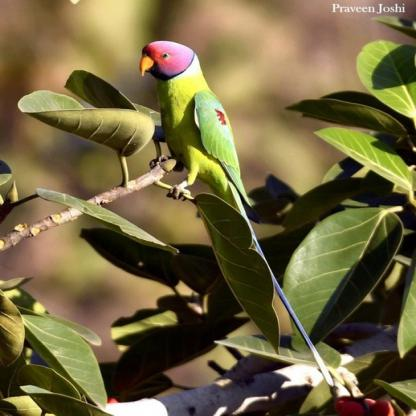Burung: (138, 40, 335, 386)
